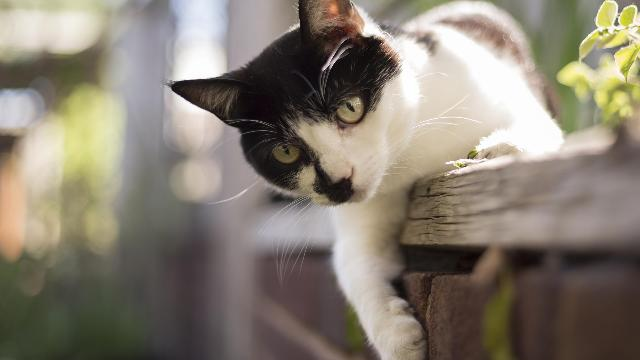cat: (169, 2, 566, 354)
